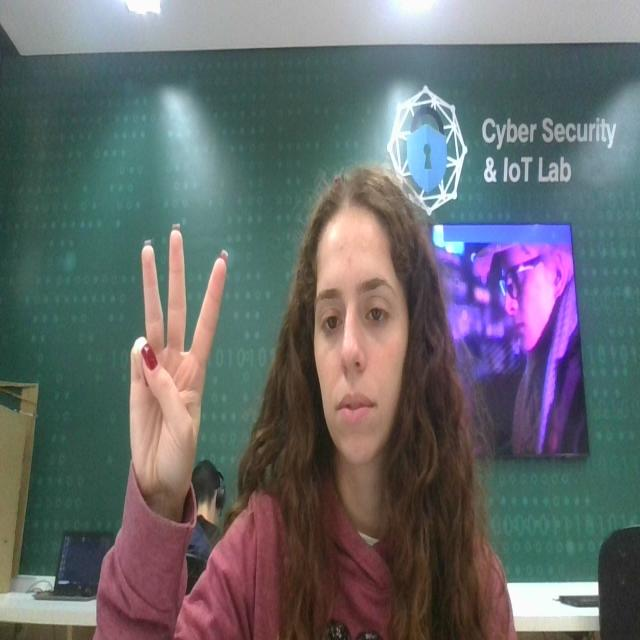W: (121, 214, 238, 534)
